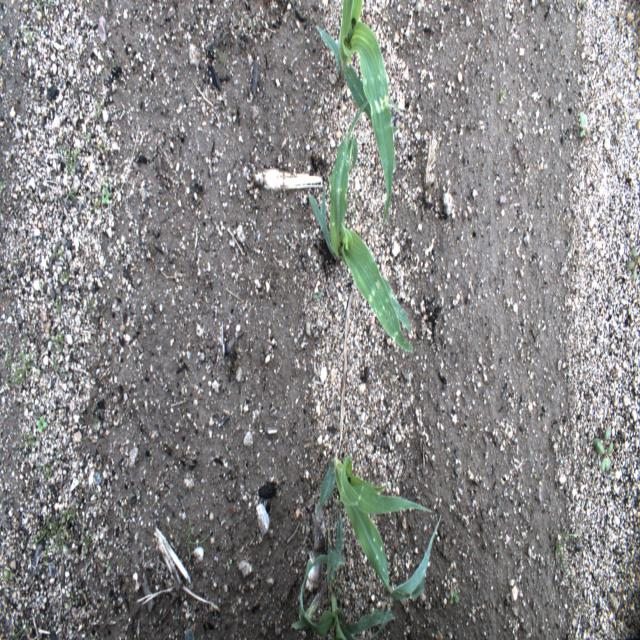crop: (304, 96, 422, 354), (298, 453, 442, 639), (311, 0, 401, 226)
weed: (590, 415, 612, 472), (577, 113, 589, 144), (36, 412, 46, 440), (101, 179, 112, 204)
